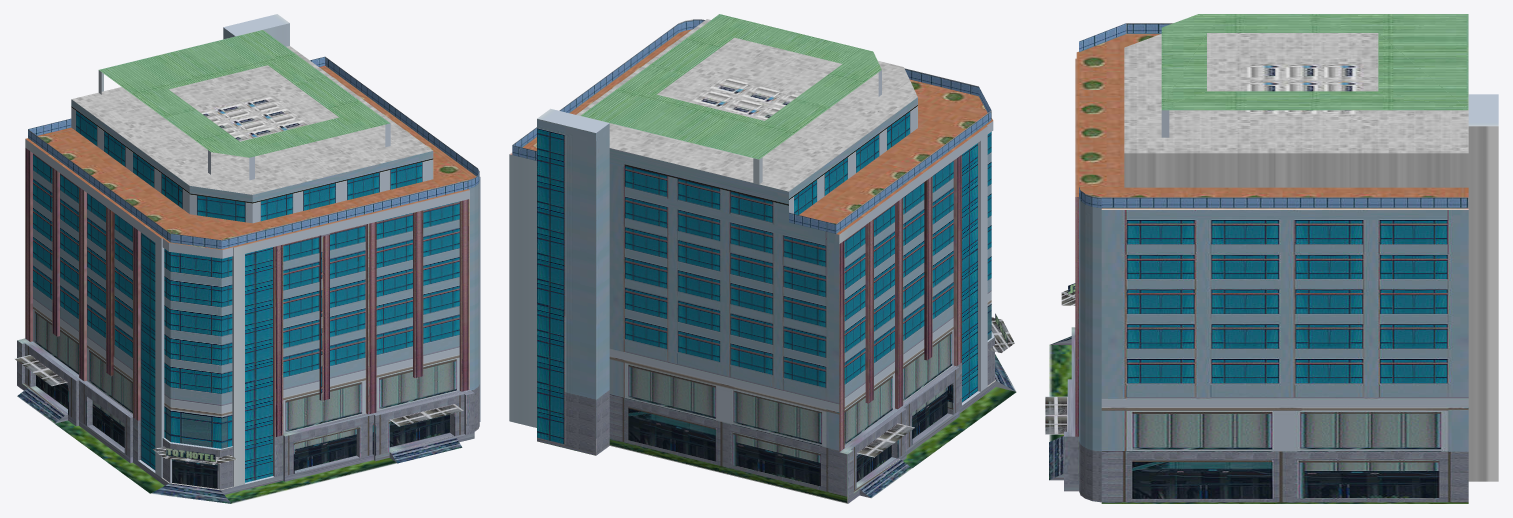
3 renders of one model, left to right at view 1: azimuth 30°, elevation 25°; view 2: azimuth 150°, elevation 25°; view 3: azimuth 270°, elevation 25°, orthographic. The views are drawn at different scales.
Parts seen in each view (by area): view 1: HN_156_TQT_HOTEL; view 2: HN_156_TQT_HOTEL; view 3: HN_156_TQT_HOTEL.
Part boxes in pixels (x1,y1,x2,y2): HN_156_TQT_HOTEL: (14,14,480,503); HN_156_TQT_HOTEL: (509,14,1016,503); HN_156_TQT_HOTEL: (1045,14,1498,503).
Bounding box in the file's own units: 29.89 × 26.06 × 30.14.
Materials: 1 (1 with a texture image).
